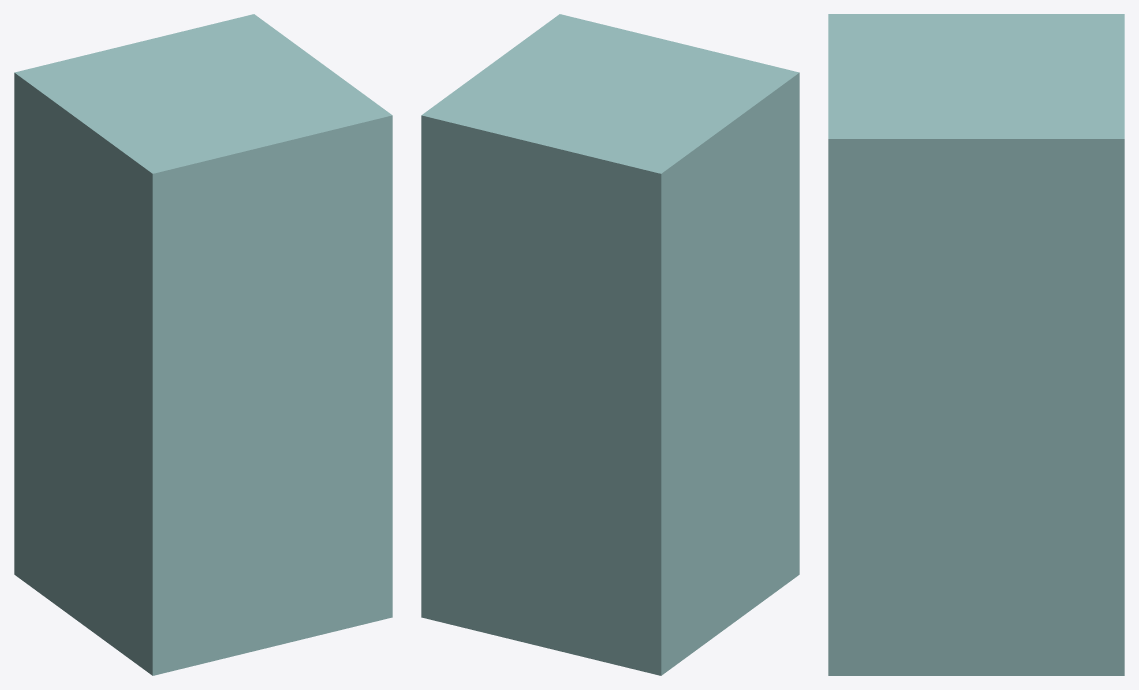
The model's file is Abstract_Castle_Block_Double_Blue_01.fbx.
3 views of the same model, side by side, from view 1: azimuth 30°, elevation 25°; view 2: azimuth 150°, elevation 25°; view 3: azimuth 270°, elevation 25° (orthographic). The views are drawn at different scales.
Visible parts, largest first — view 1: Model; view 2: Model; view 3: Model.
Part boxes in pixels (x1,y1,x2,y2): Model: (14,14,392,675); Model: (421,14,799,675); Model: (828,14,1124,675).
Bounding box in the file's own units: 1000 × 2000 × 1000.
